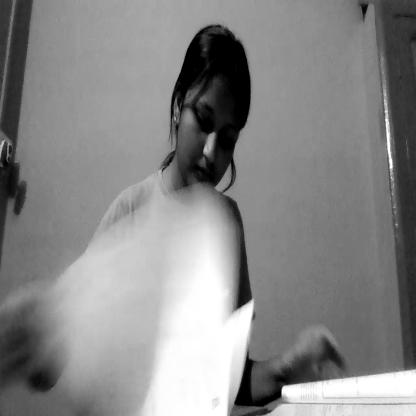Distracted: (169, 28, 258, 212)
